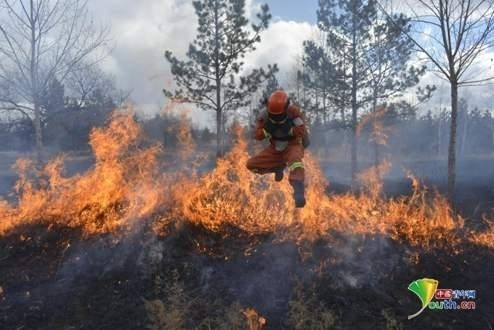fire: (240, 305, 266, 327)
